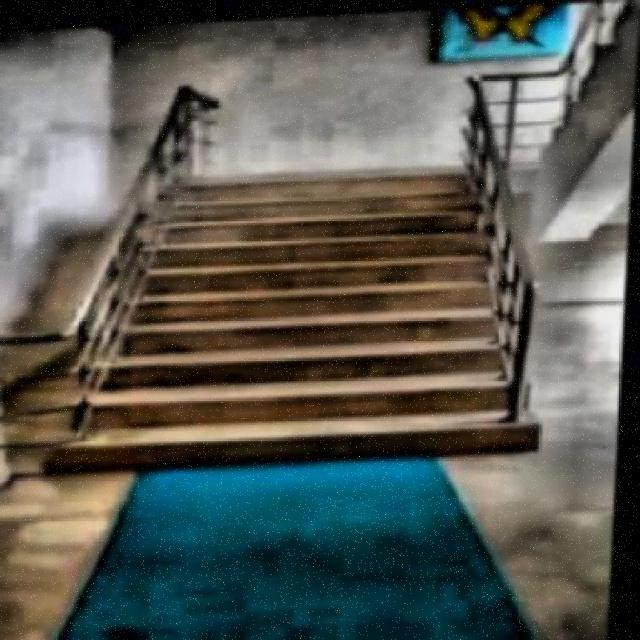stair: (54, 169, 520, 471)
